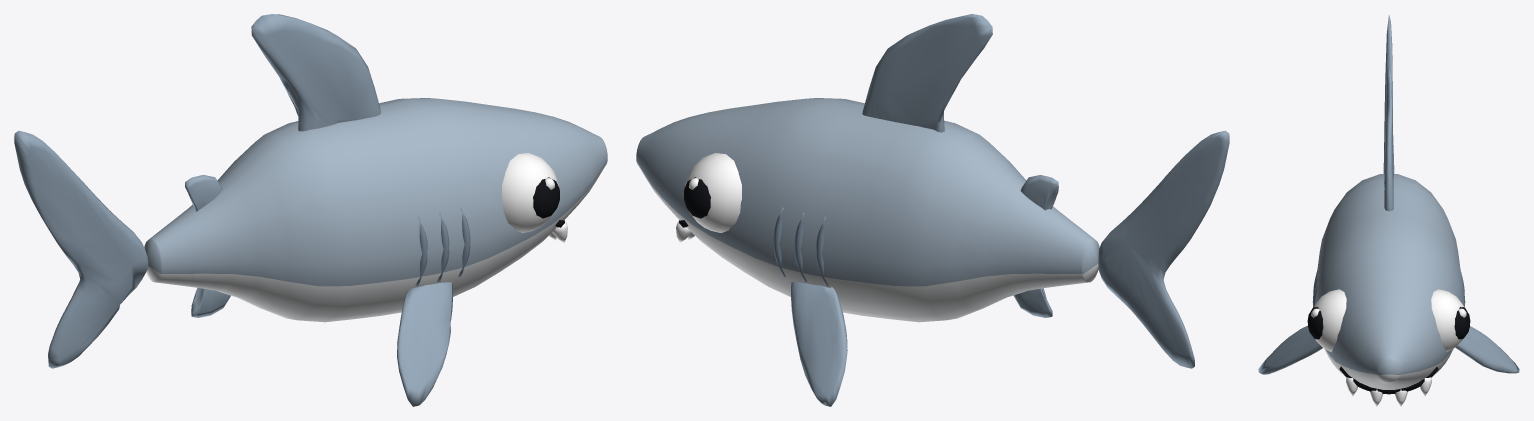
File: fish_shark.glb
The picture shows the model from 3 angles, left to right: view 1: azimuth 30°, elevation 25°; view 2: azimuth 150°, elevation 25°; view 3: azimuth 270°, elevation 25°; orthographic projection. The views are drawn at different scales.
Parts seen in each view (by area): view 1: Fish, Tail, FinR; view 2: Fish, Tail, FinL; view 3: Fish, FinL, FinR, Tail.
Boxes of the visible parts, box(x1,y1,x2,y2) form: Fish: box(144, 14, 607, 322); Tail: box(14, 130, 148, 368); FinR: box(397, 282, 452, 406); Fish: box(636, 14, 1099, 322); Tail: box(1098, 130, 1229, 368); FinL: box(791, 281, 847, 406); Fish: box(1307, 65, 1470, 406); FinL: box(1455, 326, 1519, 373); FinR: box(1258, 325, 1322, 374); Tail: box(1383, 15, 1394, 173).
Size of the model in its own units: 1.97 by 1.11 by 0.9417.
